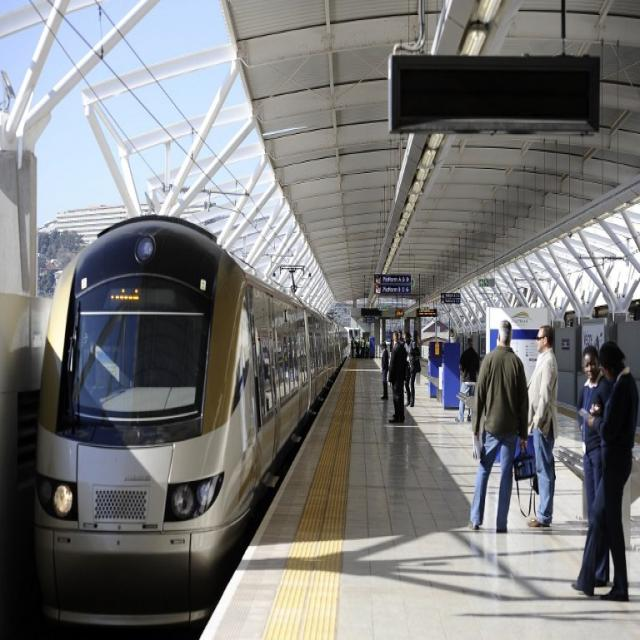body: (569, 338, 639, 605), (466, 318, 536, 535), (576, 342, 611, 590), (526, 323, 559, 529), (248, 331, 324, 412), (452, 334, 480, 424), (386, 328, 408, 425), (402, 328, 422, 408), (379, 340, 389, 400), (389, 330, 409, 350), (354, 334, 360, 358), (349, 334, 355, 357), (360, 334, 365, 356), (365, 338, 370, 347)
